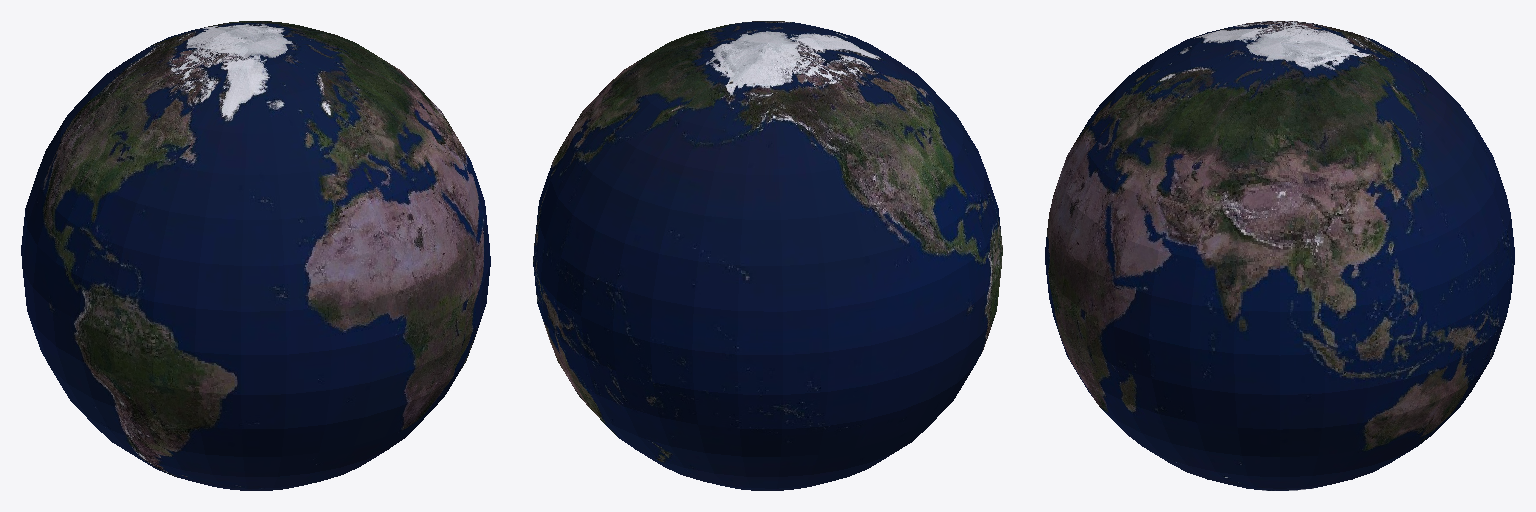
The picture shows the model from 3 angles: view 1: azimuth 30°, elevation 25°; view 2: azimuth 150°, elevation 25°; view 3: azimuth 270°, elevation 25°; orthographic projection.
Visible parts, largest first — view 1: Sphere001; view 2: Sphere001; view 3: Sphere001.
Boxes of the visible parts, <box> form: Sphere001: <box>21,21,490,490</box>; Sphere001: <box>533,21,1002,490</box>; Sphere001: <box>1045,21,1514,490</box>.
Bounding box in the file's own units: 61.42 × 61.42 × 61.42.
Materials: 1 (1 with a texture image).